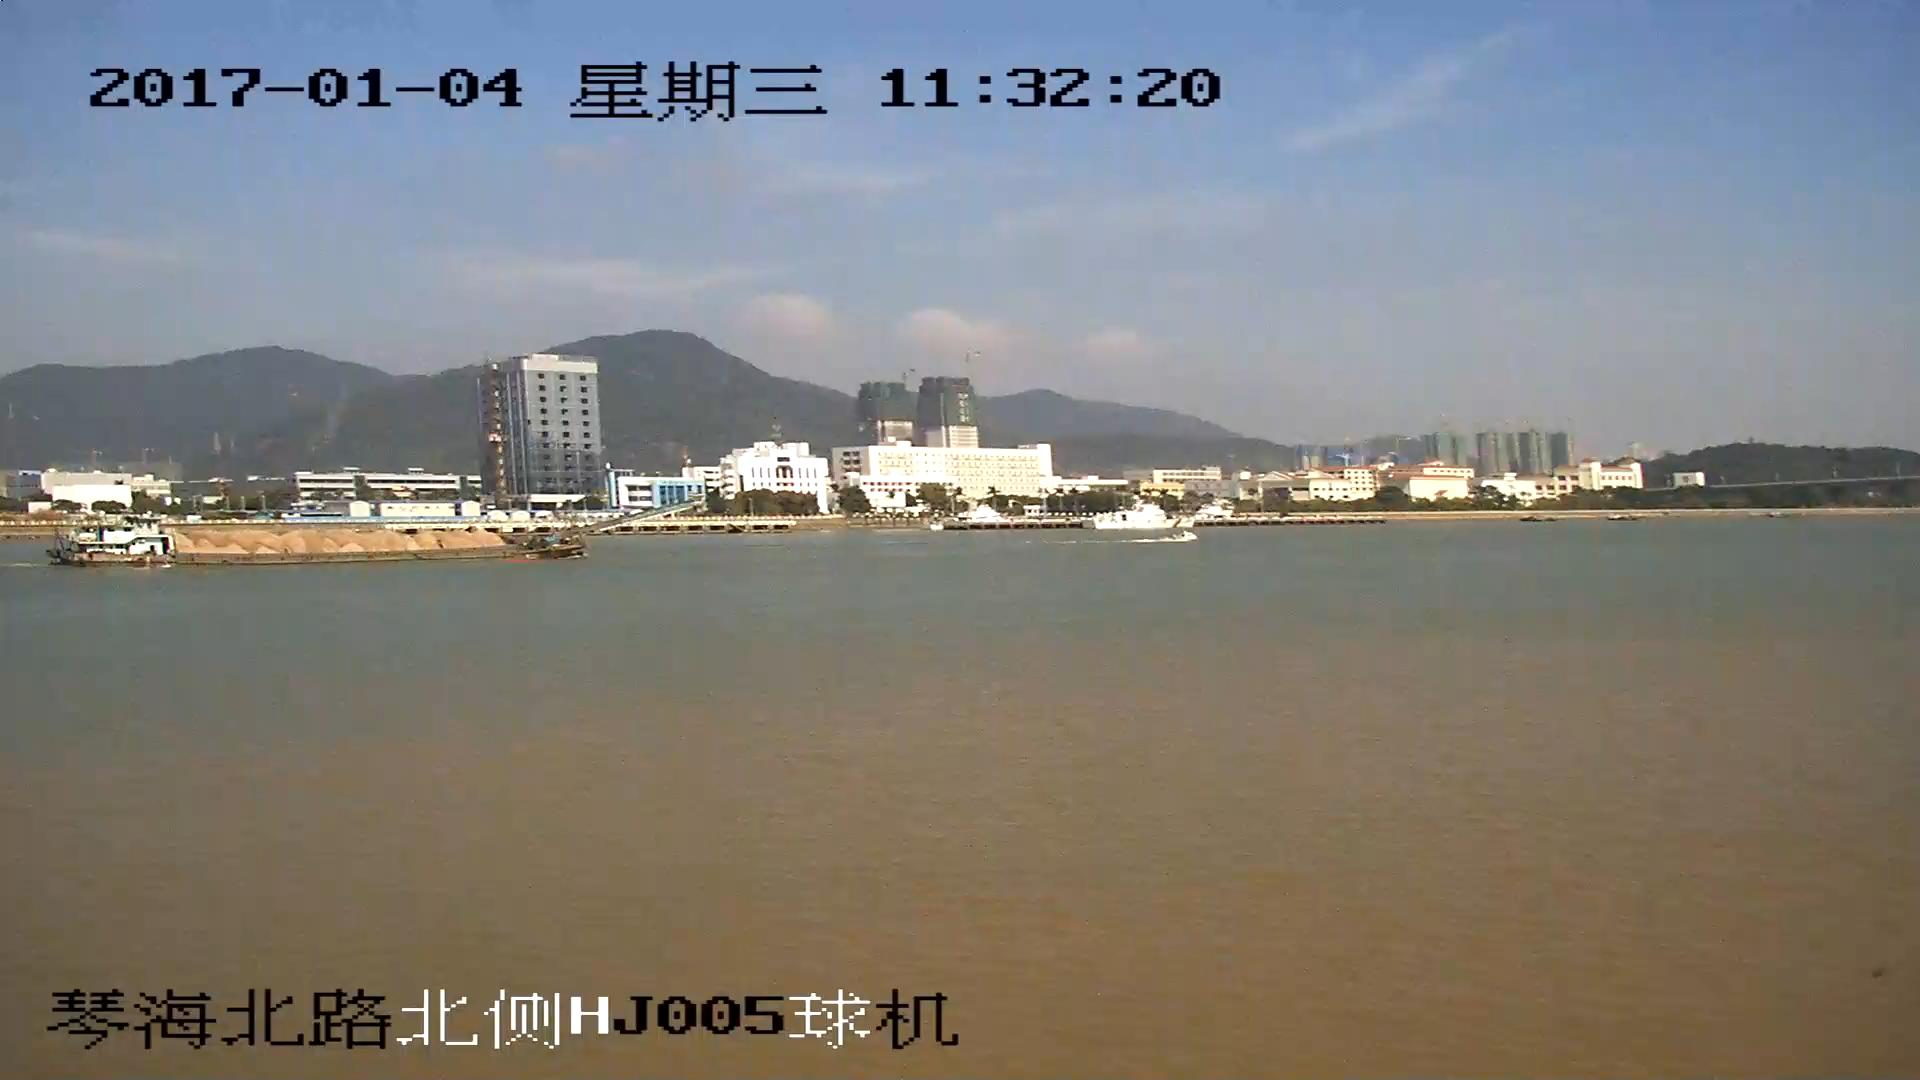ore carrier: (51, 498, 692, 572)
